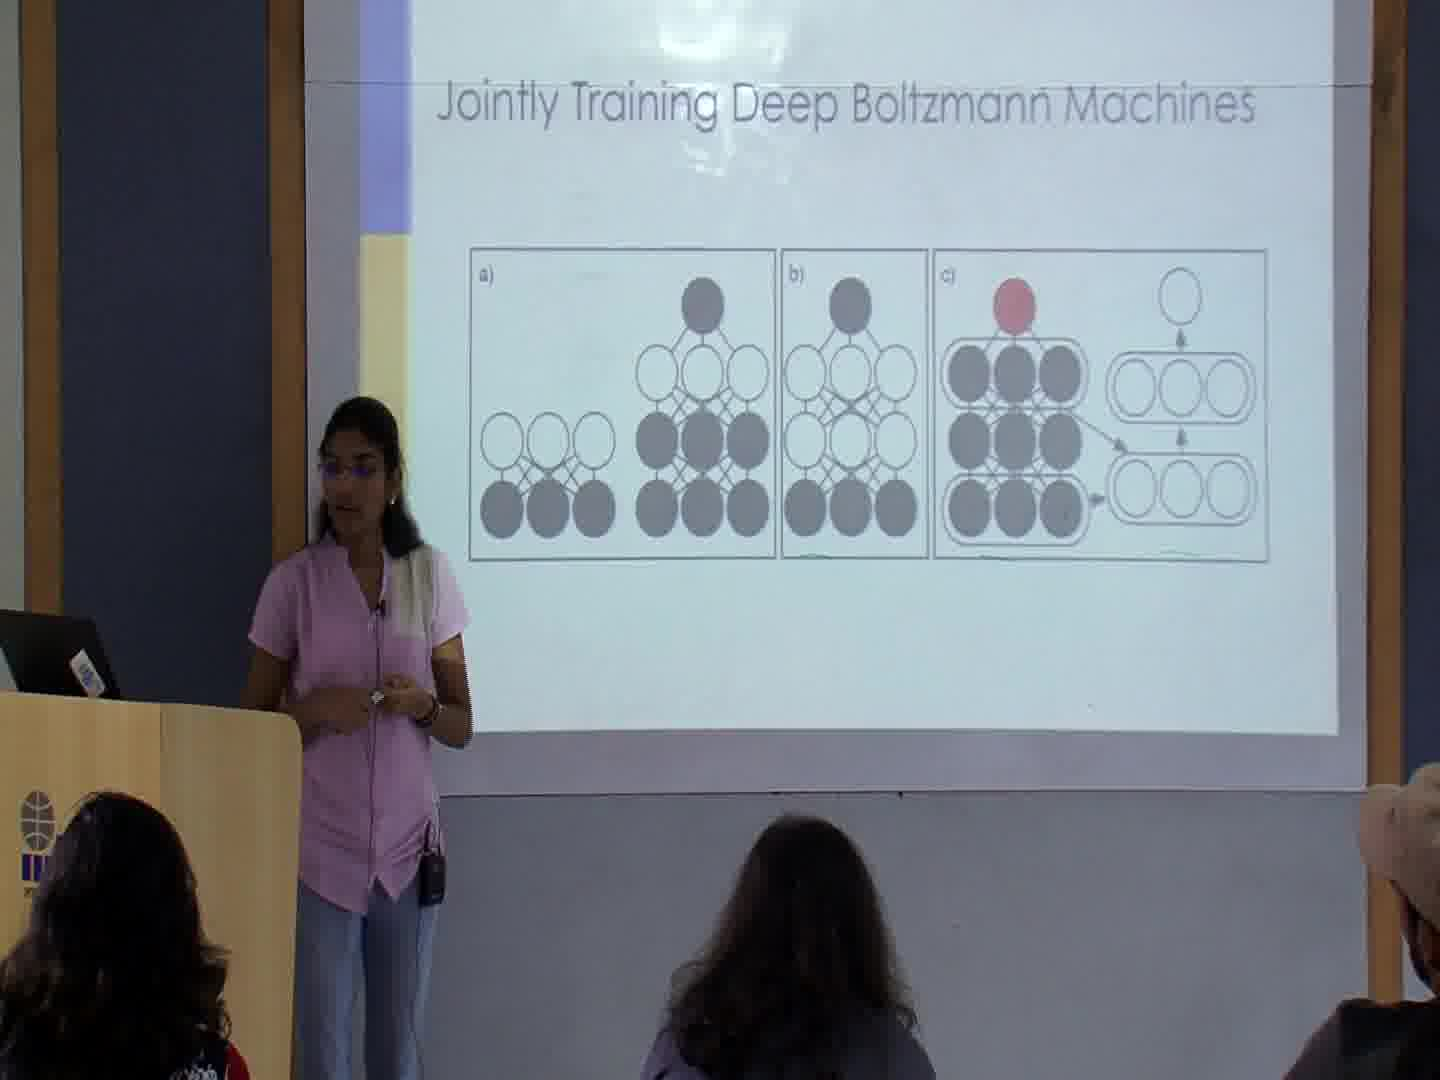fig: (785, 277, 920, 541), (477, 411, 622, 543)
